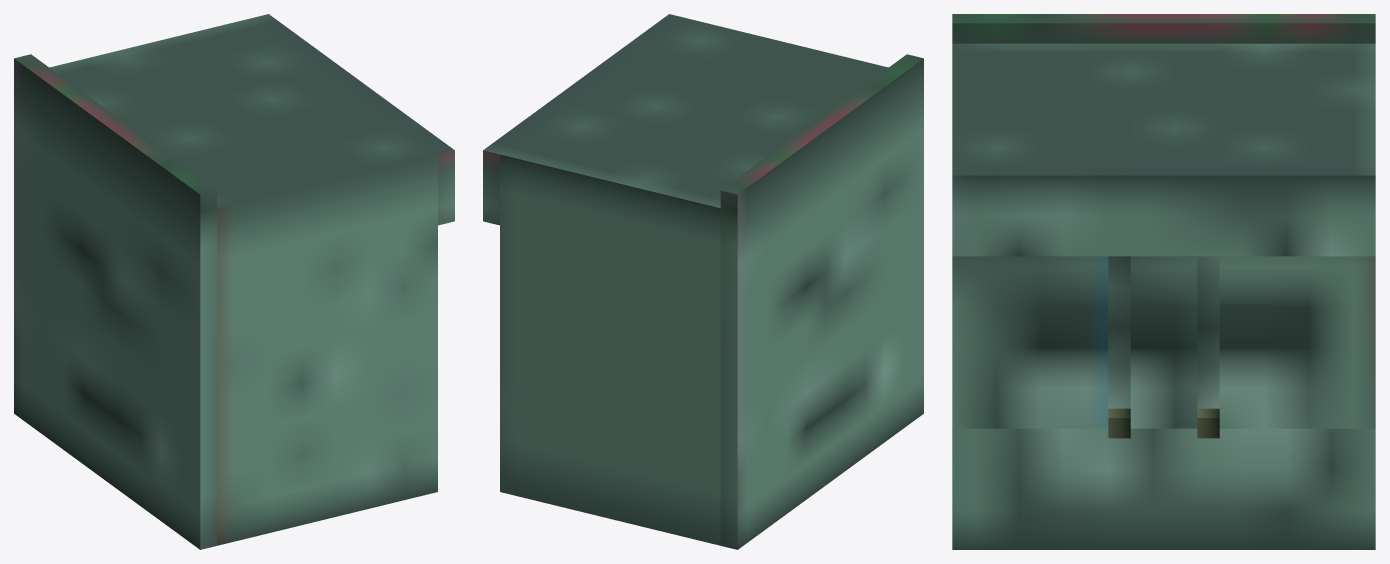
Rendered from Cabinet_00.fbx.
3 views of the same model, side by side, from view 1: azimuth 30°, elevation 25°; view 2: azimuth 150°, elevation 25°; view 3: azimuth 270°, elevation 25° (orthographic). The views are drawn at different scales.
Parts seen in each view (by area): view 1: Cabinet_00; view 2: Cabinet_00; view 3: Cabinet_00.
Part boxes in pixels (x1,y1,x2,y2): Cabinet_00: (14, 14, 454, 549); Cabinet_00: (483, 14, 923, 549); Cabinet_00: (952, 14, 1375, 549).
Bounding box in the file's own units: 75 × 100 × 95.
